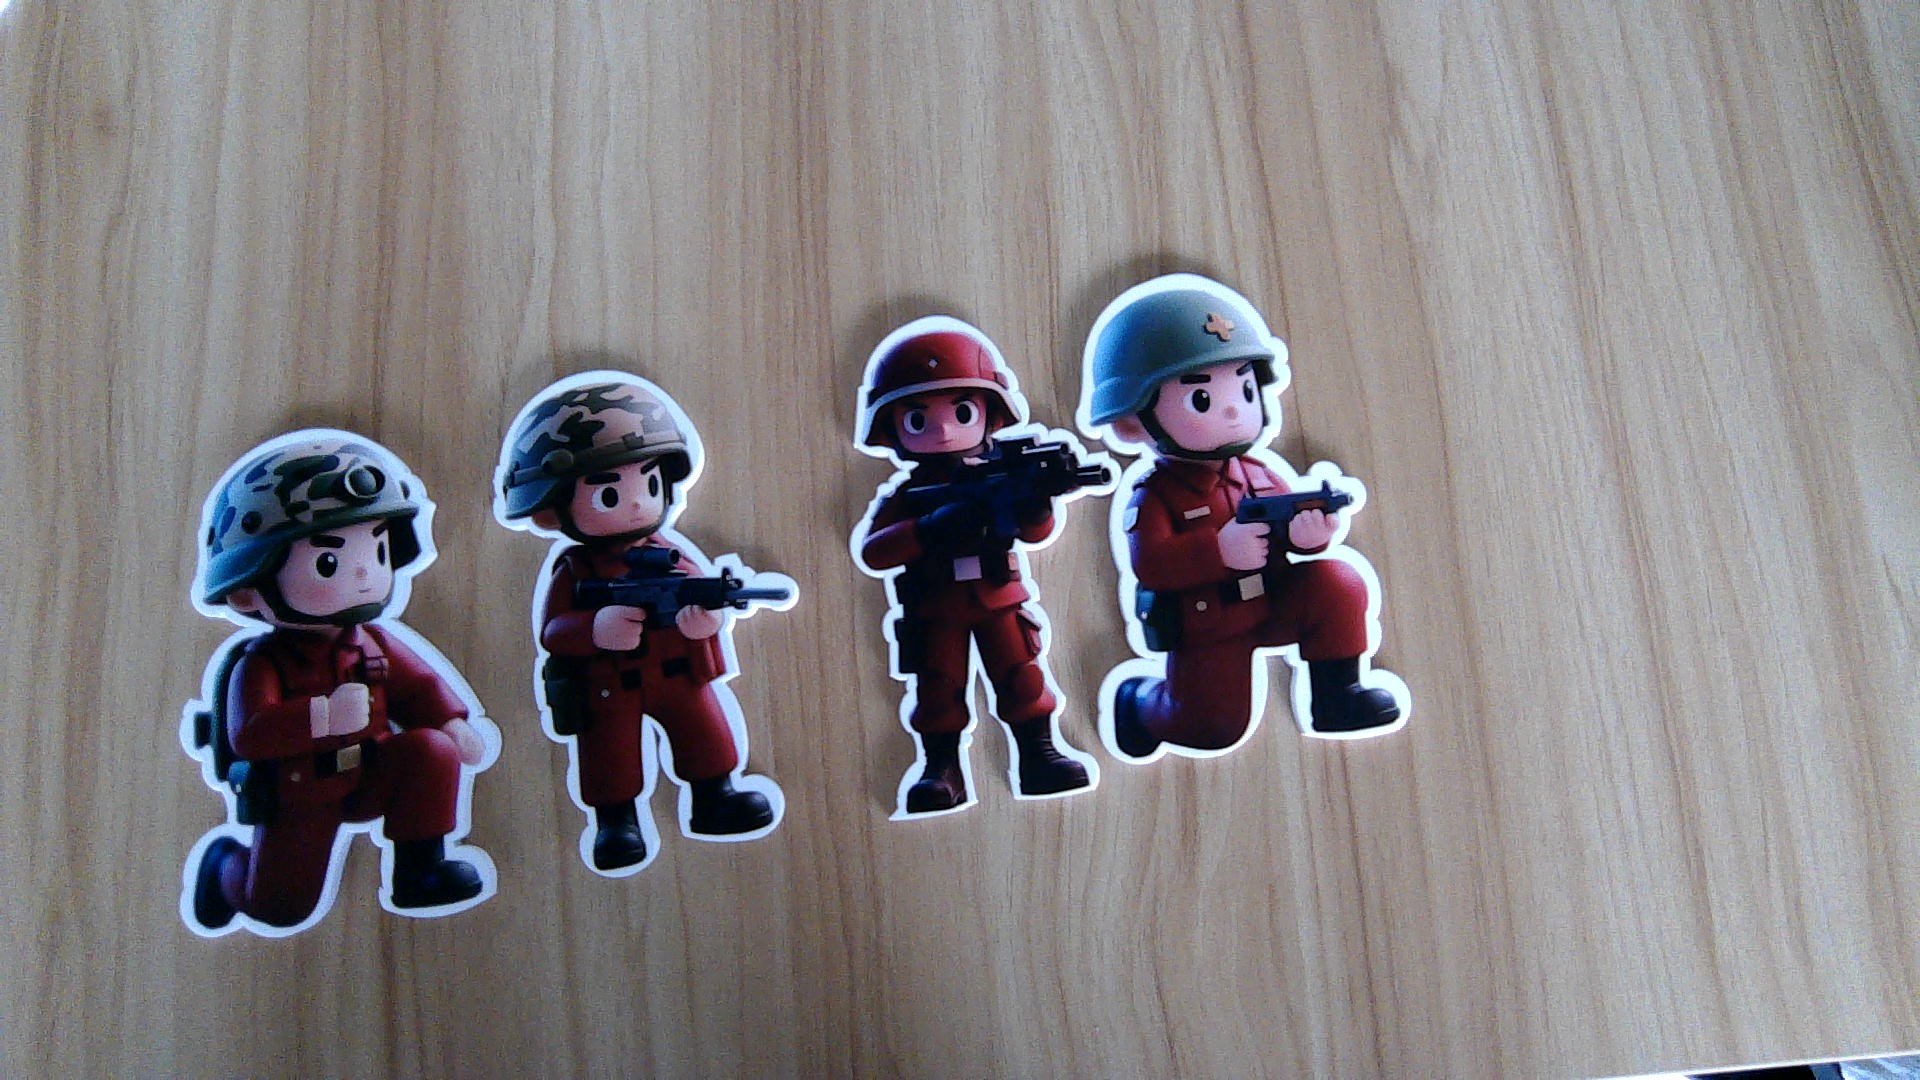敌人1: (164, 633, 509, 942), (1095, 456, 1418, 762), (836, 454, 1100, 825), (521, 543, 803, 880)
